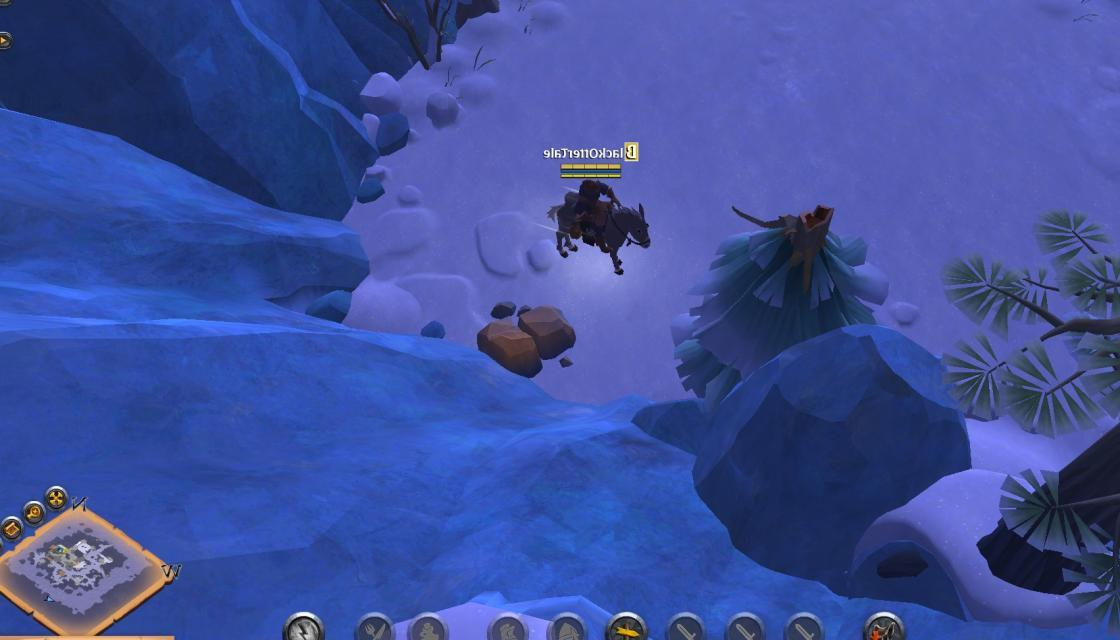limestone: (478, 300, 582, 376)
